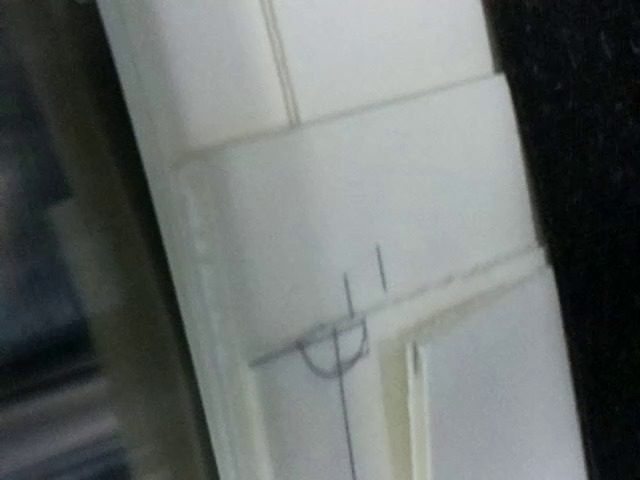not_sure: (253, 275, 376, 384)
